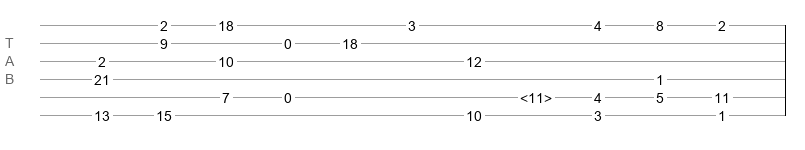0: (284, 90, 292, 100), (284, 36, 292, 46)
1: (656, 72, 664, 82), (718, 108, 726, 118)
10: (218, 54, 234, 64), (466, 108, 482, 118)
11: (714, 90, 730, 100)
12: (466, 54, 482, 64)
13: (94, 108, 110, 118)
15: (156, 108, 172, 118)
18: (218, 18, 234, 28), (342, 36, 358, 46)
2: (98, 54, 106, 64), (160, 18, 168, 28), (718, 18, 726, 28)
21: (94, 72, 110, 82)
3: (408, 18, 416, 28), (594, 108, 602, 118)
4: (594, 18, 602, 28), (594, 90, 602, 100)
5: (656, 90, 664, 100)
7: (222, 90, 230, 100)
8: (656, 18, 664, 28)
9: (160, 36, 168, 46)
harmonic: (520, 90, 552, 100)
